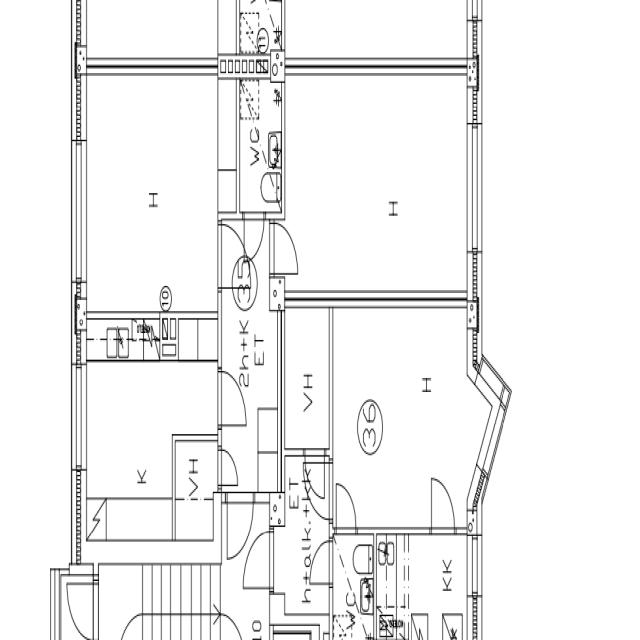door: (239, 524, 277, 597), (221, 491, 257, 566), (219, 218, 252, 292), (215, 366, 250, 434), (63, 569, 96, 640), (427, 471, 458, 538), (270, 220, 301, 277), (302, 448, 330, 510), (332, 476, 360, 536), (306, 537, 334, 592), (215, 444, 242, 492), (242, 208, 266, 259)
window: (66, 134, 90, 295), (464, 114, 485, 261), (69, 356, 89, 478)
zone: (284, 68, 472, 302), (74, 312, 218, 564), (79, 72, 222, 324), (332, 305, 474, 528), (377, 531, 478, 640), (272, 453, 330, 636), (238, 2, 282, 214), (281, 304, 331, 453), (330, 534, 376, 640)
